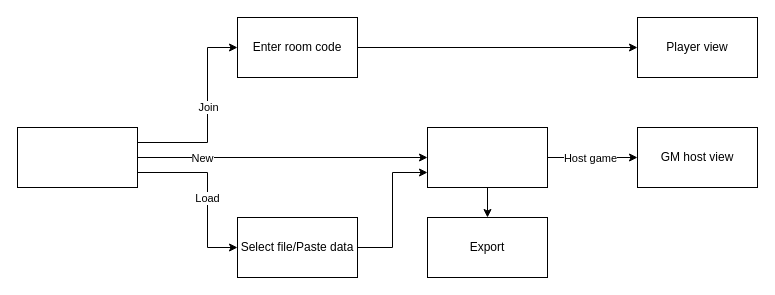
Image size: 775x295. Some labels were removed from this diagram. The centre of each missing label's shape, as x and y in pixels:
Landing page index.js: (x=77, y=157)
Map editor: (x=487, y=157)
